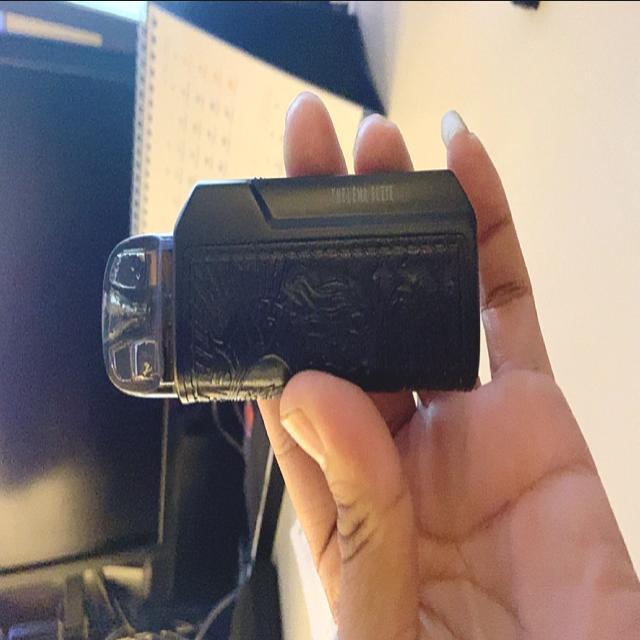Hazard: (100, 166, 478, 405)
